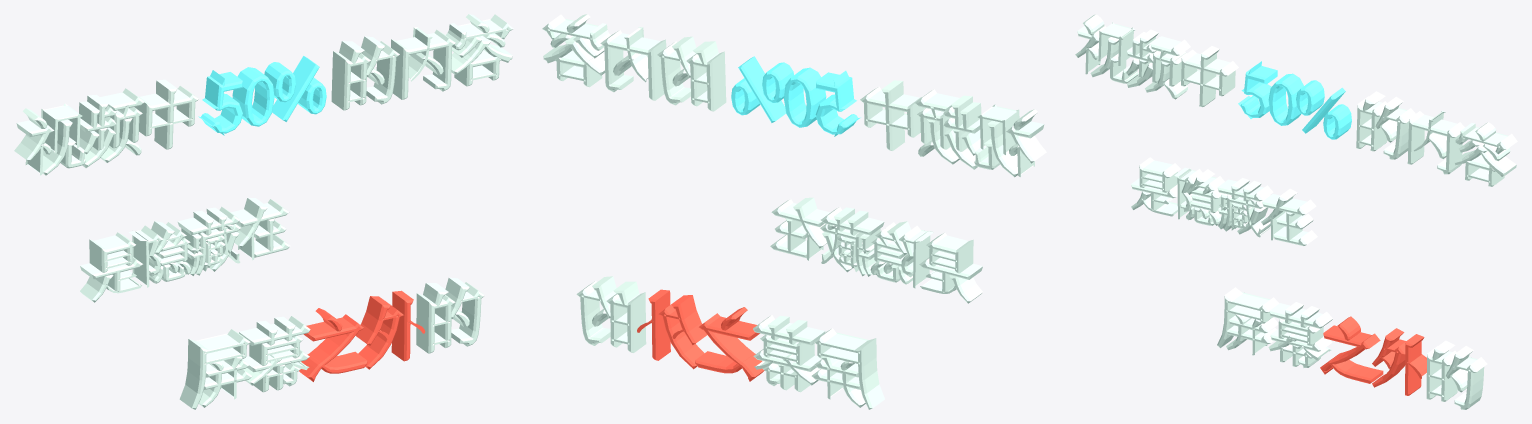
The model's file is video-beyond-screen-note-optimized.glb.
3 views of the same model, side by side, from view 1: azimuth 30°, elevation 25°; view 2: azimuth 150°, elevation 25°; view 3: azimuth 330°, elevation 25° (orthographic). The views are drawn at different scales.
Parts seen in each view (by area): view 1: Offscreen_Line_01, Offscreen_Line_03; view 2: Offscreen_Line_01, Offscreen_Line_03; view 3: Offscreen_Line_01, Offscreen_Line_03.
Part boxes in pixels (x1,y1,x2,y2): Offscreen_Line_01: (14,14,513,409); Offscreen_Line_03: (299,290,425,381); Offscreen_Line_01: (542,14,1046,409); Offscreen_Line_03: (637,289,764,381); Offscreen_Line_01: (1075,14,1517,409); Offscreen_Line_03: (1320,316,1426,395).
Bounding box in the file's own units: 2.53 × 1.65 × 0.1521.
